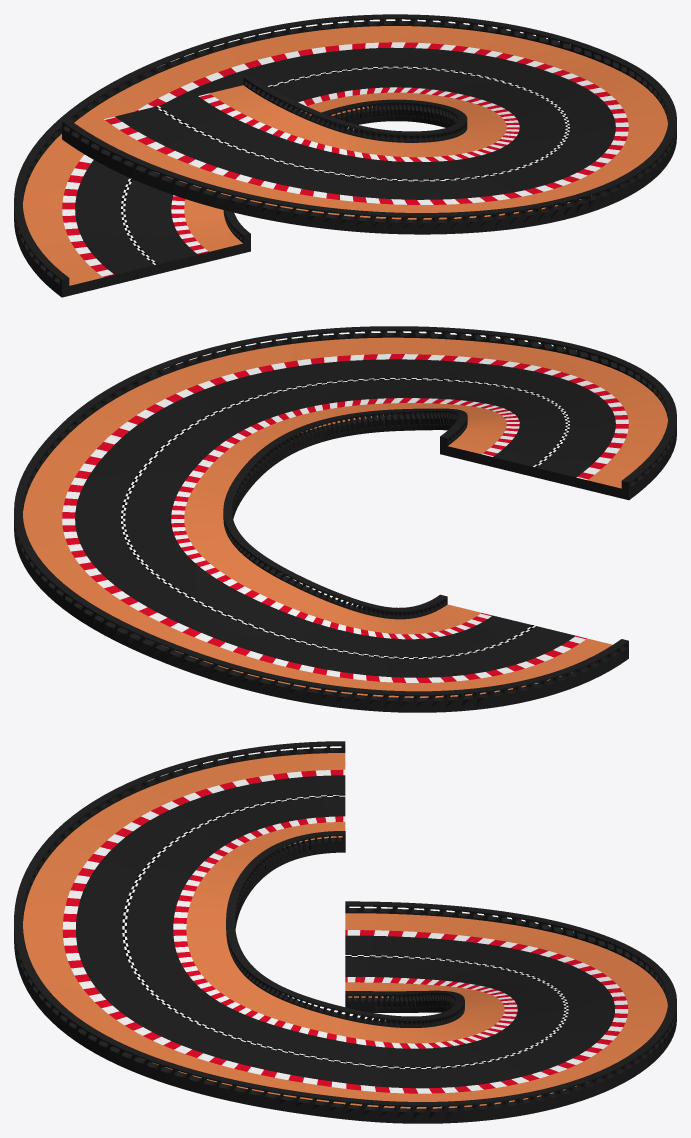
File: ModularTrackSpiralRight -Deux.fbx
3 views of the same model, one above another, from view 1: azimuth 30°, elevation 25°; view 2: azimuth 150°, elevation 25°; view 3: azimuth 270°, elevation 25° (orthographic).
Parts seen in each view (by area): view 1: ModularTrackSpiralRight, LaneDivider.001; view 2: ModularTrackSpiralRight, LaneDivider.001; view 3: ModularTrackSpiralRight, LaneDivider.001.
Boxes of the visible parts, x1,y1,x2,y2 form: ModularTrackSpiralRight: (14,14,676,297); LaneDivider.001: (121,66,569,264); ModularTrackSpiralRight: (14,326,676,712); LaneDivider.001: (121,378,569,658); ModularTrackSpiralRight: (14,741,676,1123); LaneDivider.001: (122,794,568,1068).
Bounding box in the file's own units: 3000 × 890 × 3000.
